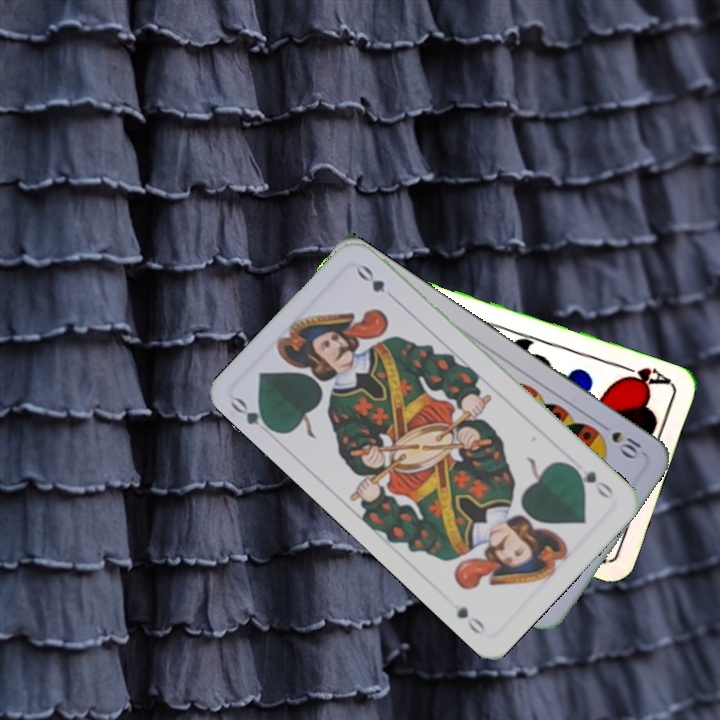GO: (227, 393, 279, 436), (567, 461, 616, 501)
HA: (615, 360, 673, 391)
S10: (607, 427, 644, 462)
